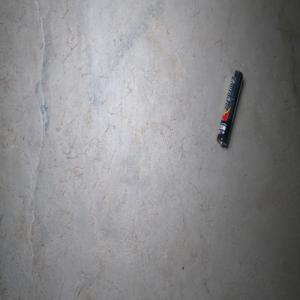Battery: (216, 69, 243, 147)
